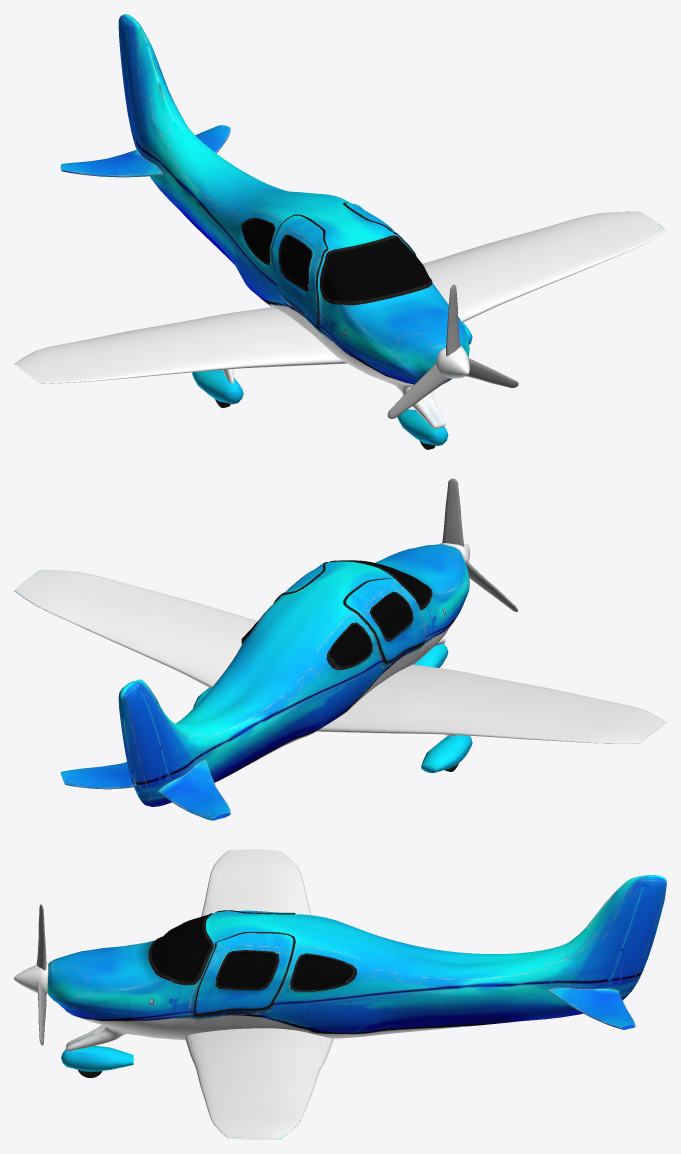
Rendered from light-aircraft.glb.
3 views of the same model, one above another, from view 1: azimuth 30°, elevation 25°; view 2: azimuth 150°, elevation 25°; view 3: azimuth 270°, elevation 25° (orthographic). The views are drawn at different scales.
Visible parts, largest first — view 1: Light Aircraft; view 2: Light Aircraft; view 3: Light Aircraft.
Boxes of the visible parts, box(x1,y1,x2,y2) form: Light Aircraft: box(14, 14, 666, 449); Light Aircraft: box(14, 478, 666, 820); Light Aircraft: box(14, 849, 666, 1139).
Bounding box in the file's own units: 9.19 × 3.01 × 8.81.
Materials: 5 (4 with a texture image).
